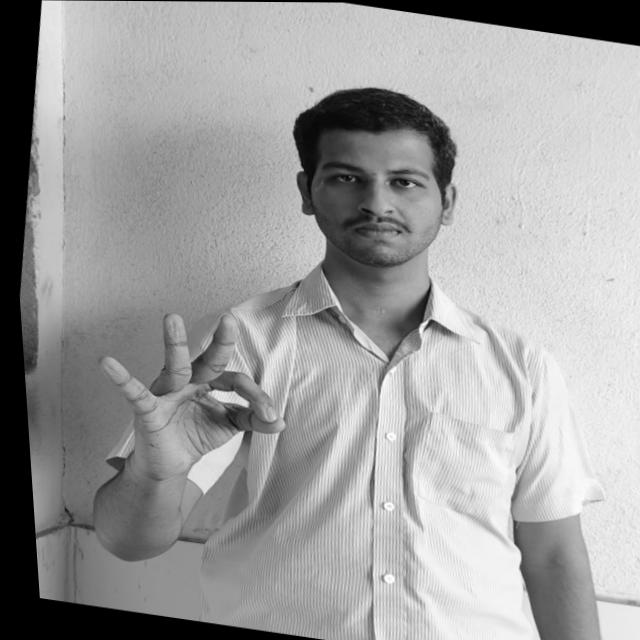Superb: (74, 296, 299, 493)
